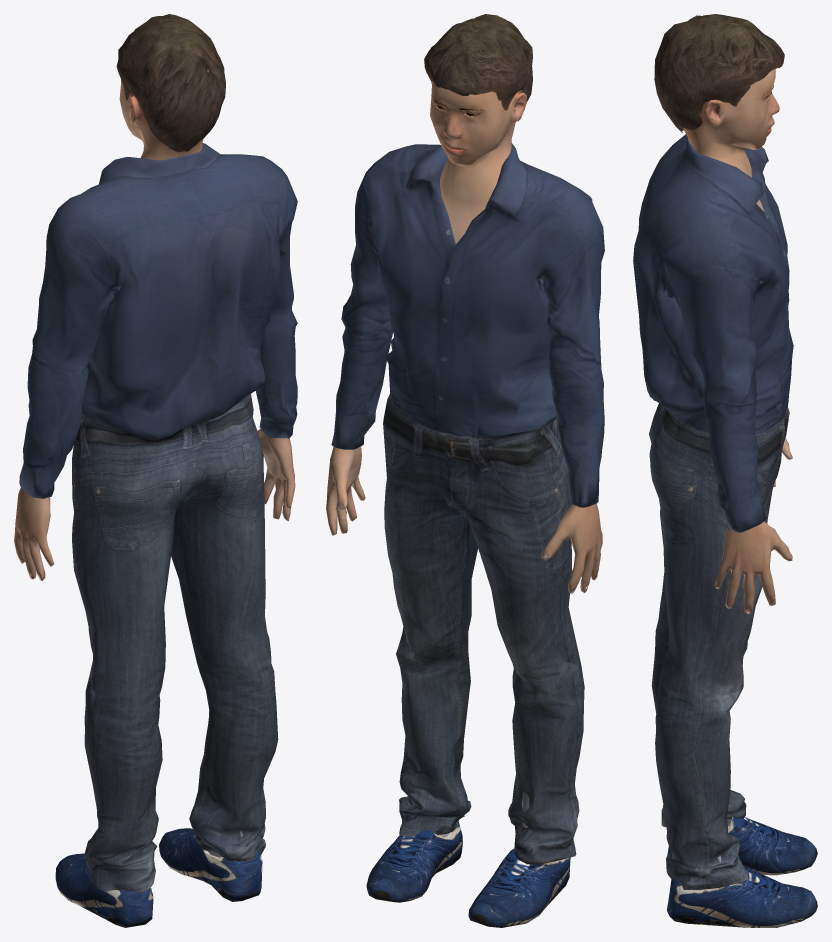
File: standing_6.gltf
The picture shows the model from 3 angles, left to right: view 1: azimuth 30°, elevation 25°; view 2: azimuth 150°, elevation 25°; view 3: azimuth 270°, elevation 25°; orthographic projection.
Parts seen in each view (by area): view 1: standing; view 2: standing; view 3: standing.
Part boxes in pixels (<box>): standing: <box>14,14,297,927</box>; standing: <box>326,14,604,927</box>; standing: <box>633,14,817,927</box>.
Bounding box in the file's own units: 0.5148 × 1.61 × 0.3081.
6 materials, 6 textured.
